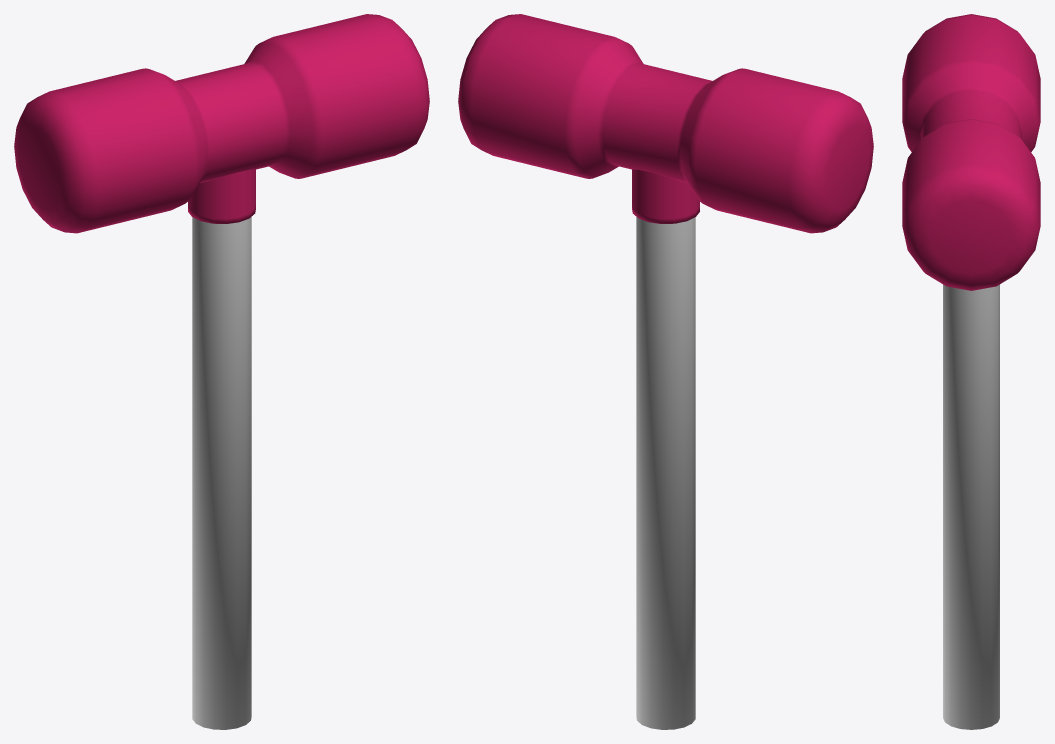
Rendered from hemer_pink.fbx.
3 views of the same model, side by side, from view 1: azimuth 30°, elevation 25°; view 2: azimuth 150°, elevation 25°; view 3: azimuth 270°, elevation 25° (orthographic). The views are drawn at different scales.
Visible parts, largest first — view 1: hemer_pink; view 2: hemer_pink; view 3: hemer_pink.
Part boxes in pixels (x1,y1,x2,y2): hemer_pink: (14, 14, 429, 729); hemer_pink: (458, 14, 873, 729); hemer_pink: (902, 14, 1040, 729).
Size of the model in its own units: 0.7089 by 1.23 by 0.2449.
